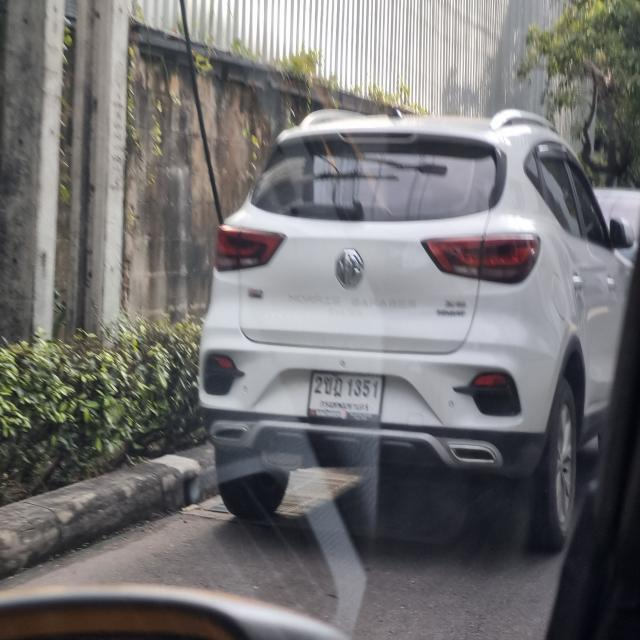license_plate: (308, 366, 386, 423)
